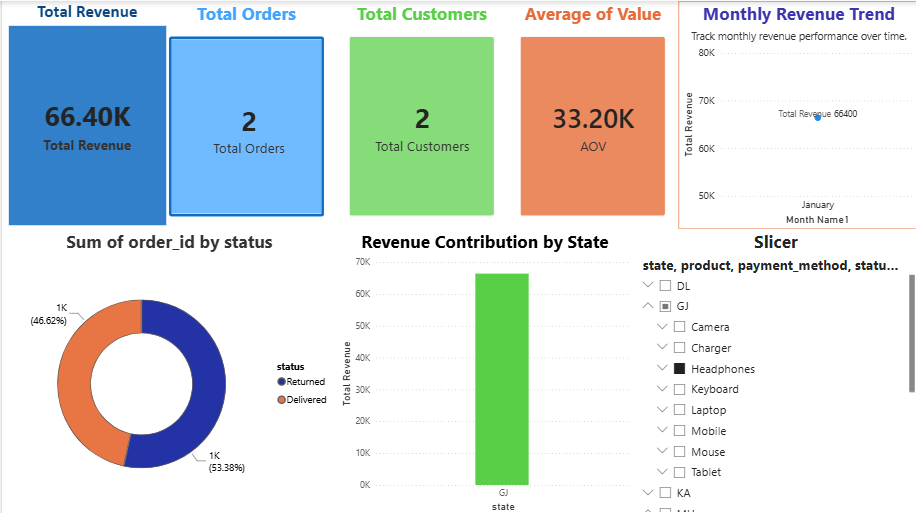

The page's visual inventory and layout, read from the dashboard file:
{"tool":"powerbi","page":{"name":"Ecommerce Sales Performance Dashboard1","canvas":[1280,720],"ordinal":0},"visuals":[{"type":"cardVisual","title":"Total Orders","fields":{"Data":["ecommerce_sales.Total Orders"]},"box":[215.9,0,251.5,318.6],"z":0},{"type":"cardVisual","title":"Total Customers","fields":{"Data":["ecommerce_sales.Total Customers"]},"box":[467.4,0,239,318.6],"z":1000},{"type":"cardVisual","title":"Total Revenue","fields":{"Data":["ecommerce_sales.Total Revenue"]},"box":[4.2,0,230.6,318.6],"z":2000},{"type":"cardVisual","title":"Average of Value","fields":{"Data":["ecommerce_sales.AOV"]},"box":[706.4,0,239,318.6],"z":3000},{"type":"lineChart","title":"Monthly Revenue Trend","fields":{"Category":["DateTable.Month Name1"],"Y":["ecommerce_sales.Total Revenue"]},"box":[945.3,0,335.4,318.6],"z":4000},{"type":"donutChart","fields":{"Category":["ecommerce_sales.status"],"Y":["Sum(ecommerce_sales.order_id)"]},"box":[0,318.6,467.4,400.4],"z":5000},{"type":"clusteredColumnChart","title":"Revenue Contribution by State","fields":{"Category":["ecommerce_sales.state"],"Y":["ecommerce_sales.Total Revenue"]},"box":[467.4,318.6,415,400.4],"z":6000},{"type":"slicer","title":"Slicer","fields":{"Values":["ecommerce_sales.state","ecommerce_sales.product","ecommerce_sales.payment_method","ecommerce_sales.status","DateTable.Month Name1"]},"box":[882.5,318.6,398.3,400.4],"z":7000}]}

Visuals, with their boxes in screenshot pixels (x1, y1, x2, y2), scaled from the page's 1280x720 canvas onto the 916x513 screenshot:
"Total Orders" cardVisual: crop(155, 0, 334, 227)
"Total Customers" cardVisual: crop(334, 0, 506, 227)
"Total Revenue" cardVisual: crop(3, 0, 168, 227)
"Average of Value" cardVisual: crop(506, 0, 677, 227)
"Monthly Revenue Trend" lineChart: crop(676, 0, 915, 227)
donutChart - ecommerce_sales.status x Sum(ecommerce_sales.order_id): crop(0, 227, 334, 512)
"Revenue Contribution by State" clusteredColumnChart: crop(334, 227, 631, 512)
"Slicer" slicer: crop(632, 227, 915, 512)
